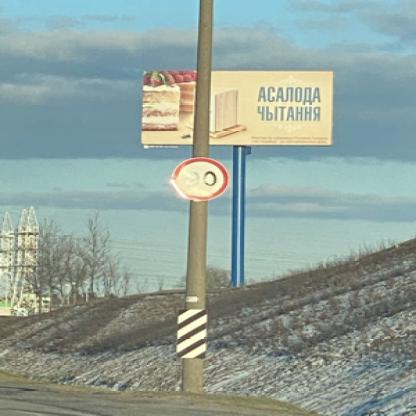speedlimit: (169, 157, 225, 200)
